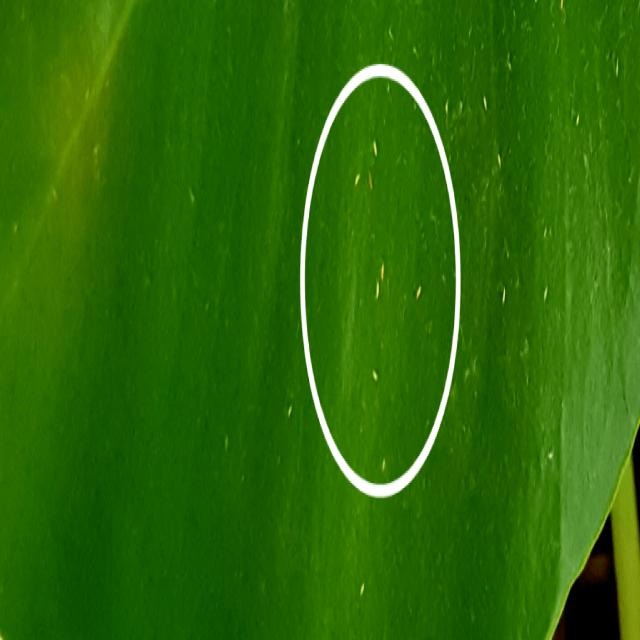Thrip-Group-: (344, 113, 428, 436)
